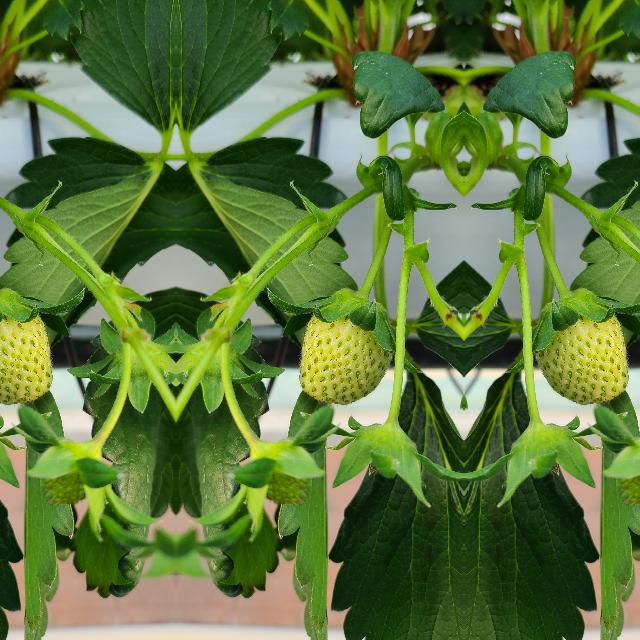Health_25: (296, 314, 392, 406), (534, 314, 630, 406), (0, 313, 53, 406)
